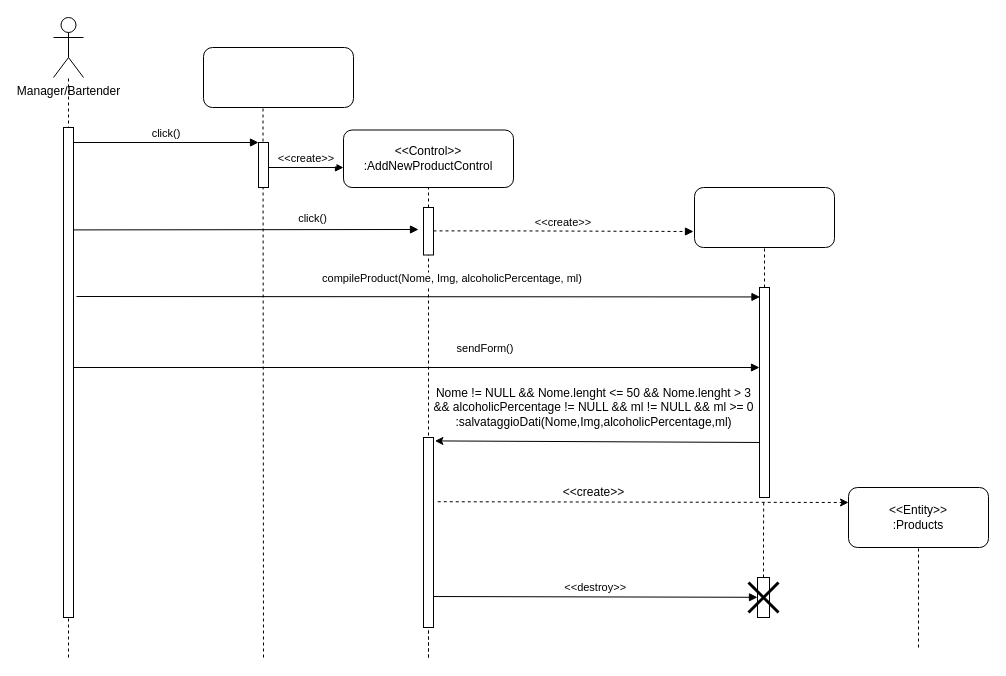
Image size: 1006x676. Some labels were removed from this diagram. The centre of each missing label's shape, as x and y in pixels:
"<<Boudary>> :AddNewProductForm" goes at point (764, 217).
"<<Boudary>> :ShowNewProductButton" goes at point (278, 77).
